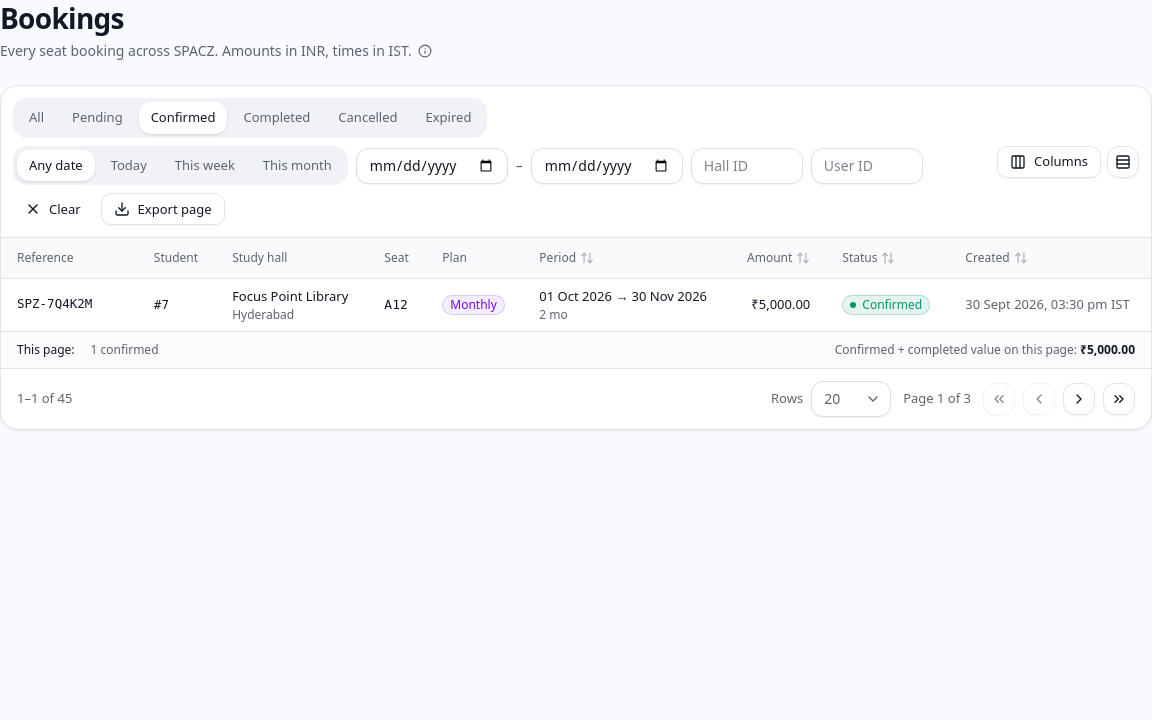
Bookings › sends filters to the API, opens a read-only drawer, and keeps state in the URL
Expected: the text "SPZ-7Q4K2M" is shown, 17,296 -> 92,312
Click the button named "Next page": {"x": 1079, "y": 399} 1063,383 -> 1095,415
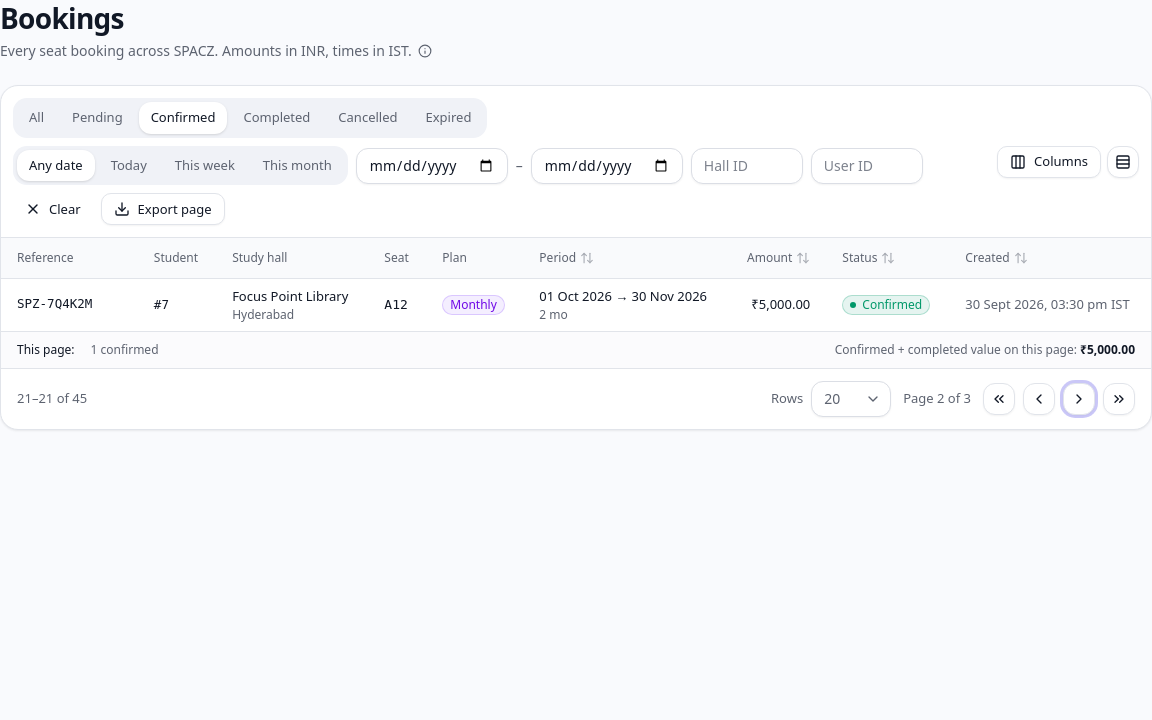
Click the radio button labelled "Pending": {"x": 97, "y": 118} 60,102 -> 135,134
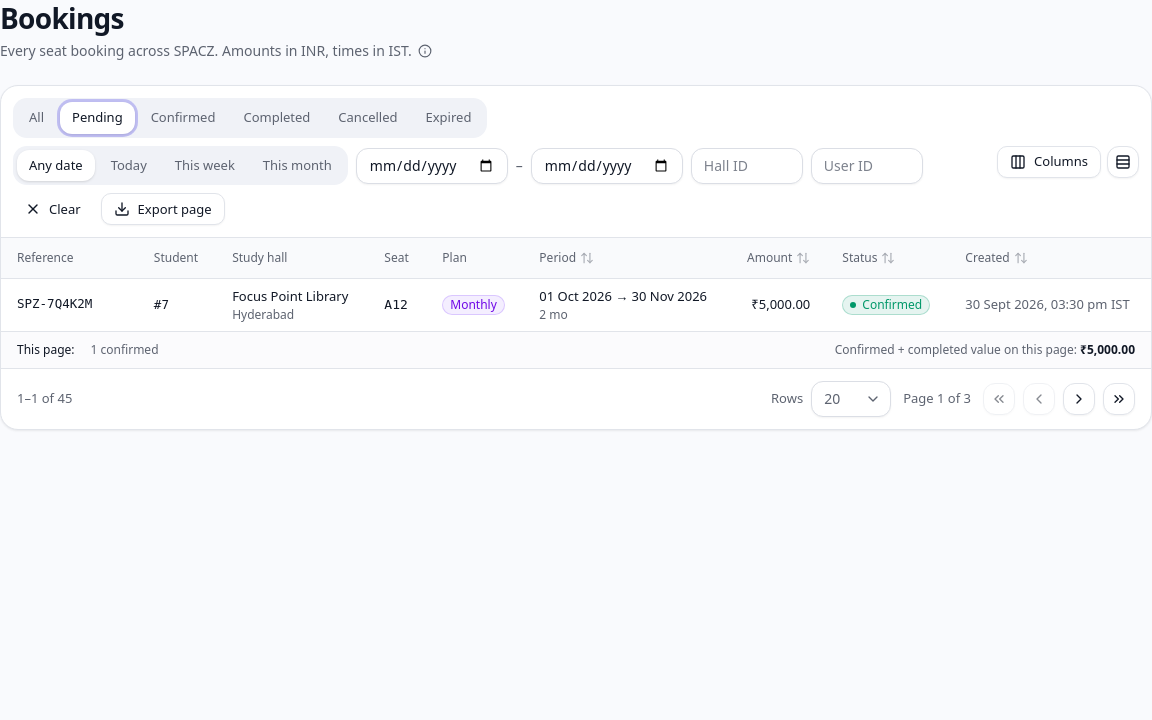
Click the text "SPZ-7Q4K2M": {"x": 55, "y": 304} 17,296 -> 92,312
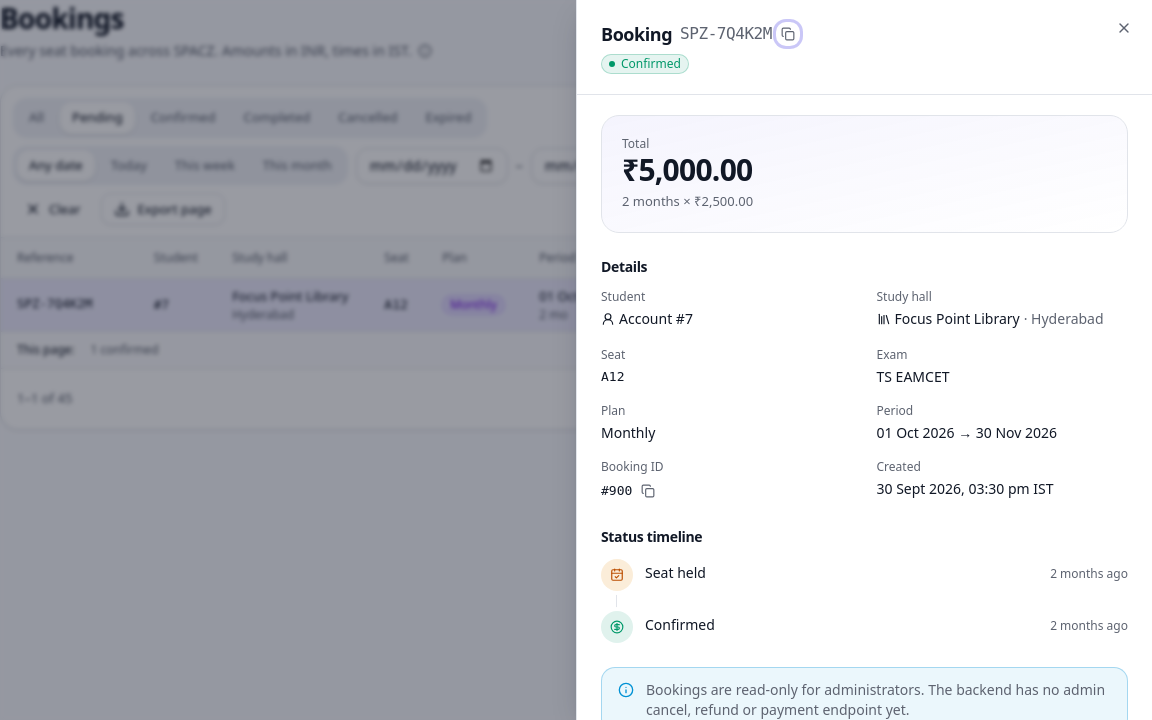
Expected: the text "₹5,000.00" is shown, 622,149 -> 752,190
Expected: the text "read-only for administrators" is shown, 646,680 -> 1105,718
